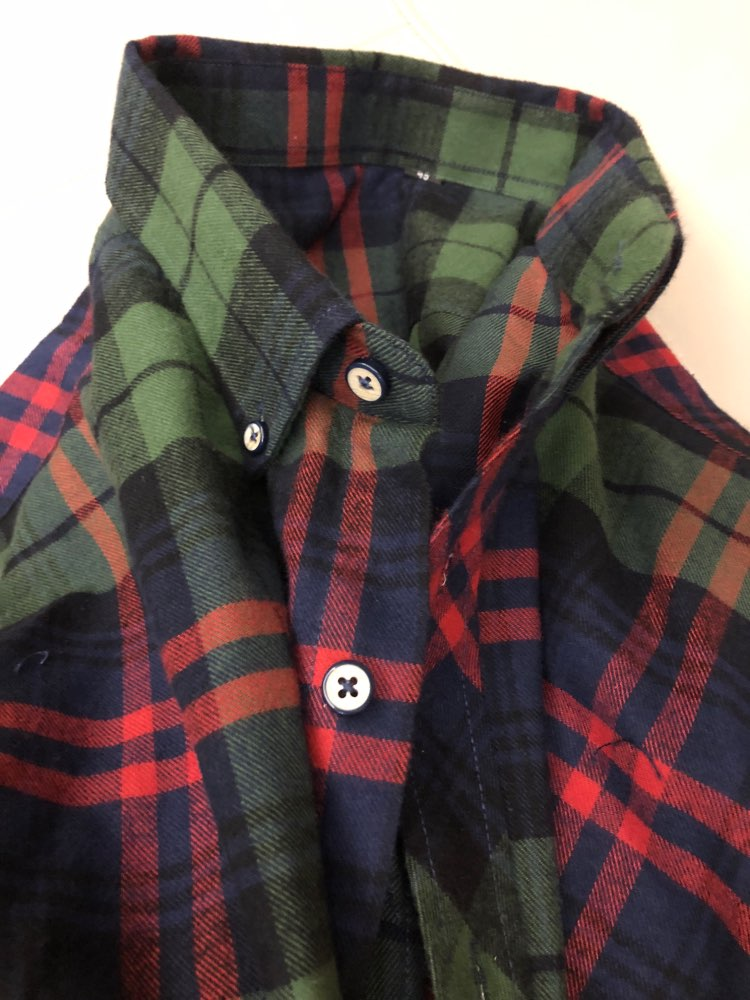shirts: (8, 41, 750, 979)
